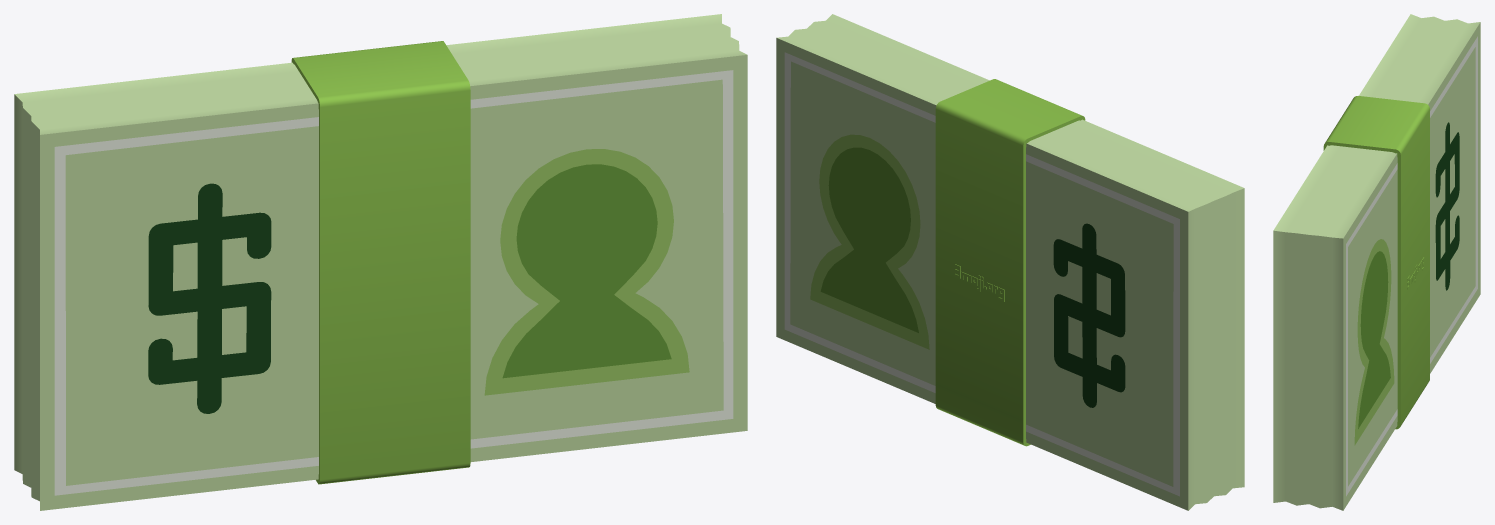
File: dollar_banknote.glb
The picture shows the model from 3 angles, left to right: view 1: azimuth 30°, elevation 25°; view 2: azimuth 150°, elevation 25°; view 3: azimuth 270°, elevation 25°; orthographic projection. The views are drawn at different scales.
Visible parts, largest first — view 1: Cube.954; view 2: Cube.954; view 3: Cube.954.
Boxes of the visible parts, <box> form: Cube.954: <box>14,14,747,510</box>; Cube.954: <box>776,14,1244,510</box>; Cube.954: <box>1273,14,1480,510</box>.
Bounding box in the file's own units: 2.2 × 1.28 × 0.8586.
1 material, 1 textured.
